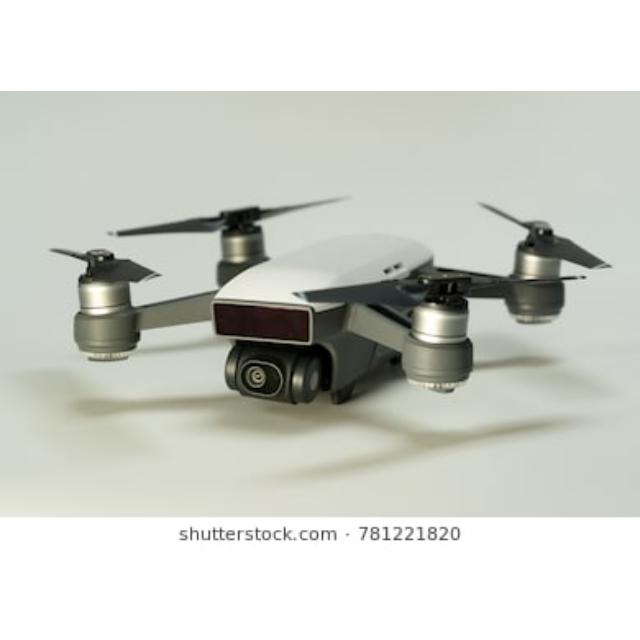Drones: (77, 218, 567, 406)
